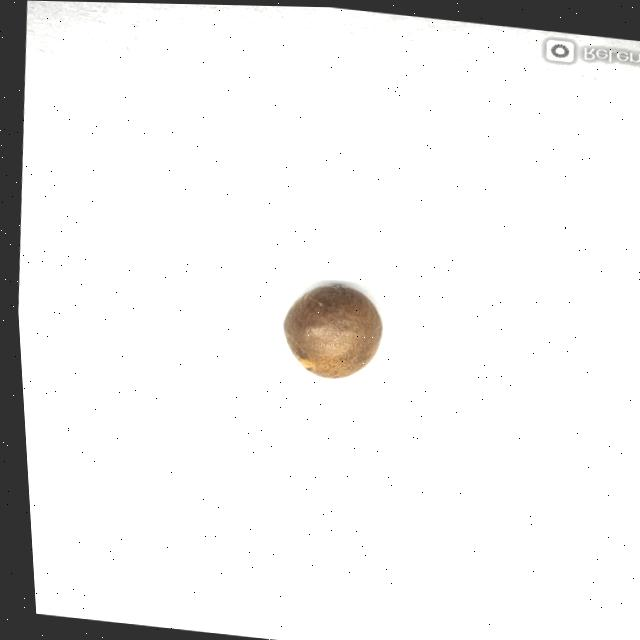Good bean: (275, 277, 380, 384)
